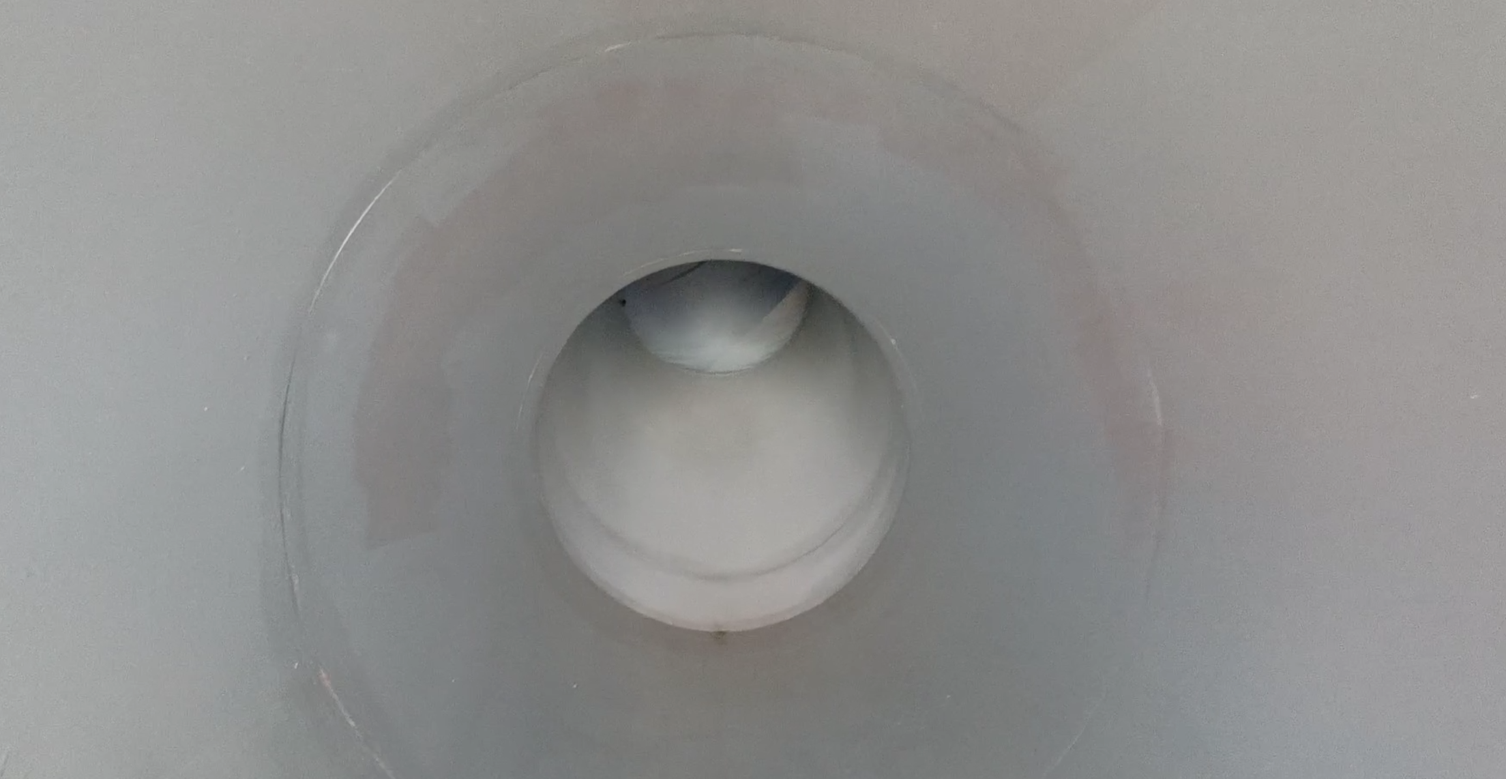circle2: (523, 255, 916, 637)
